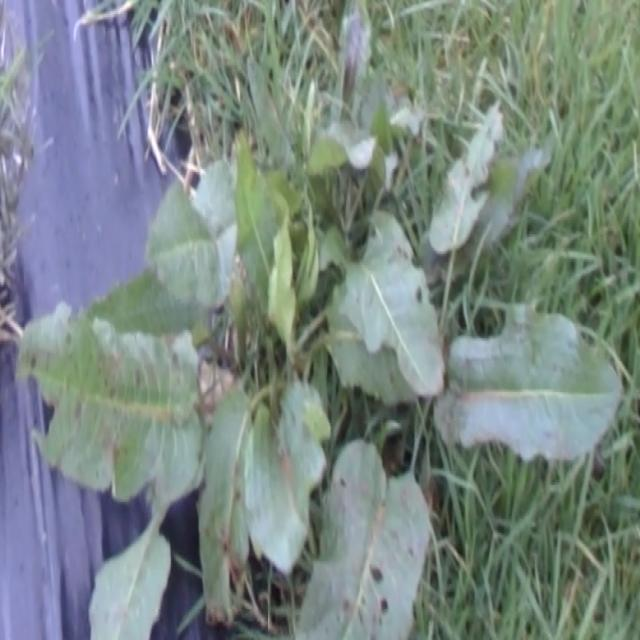organic waste: (29, 4, 640, 640), (9, 159, 386, 612), (306, 165, 635, 640), (237, 0, 437, 277)
